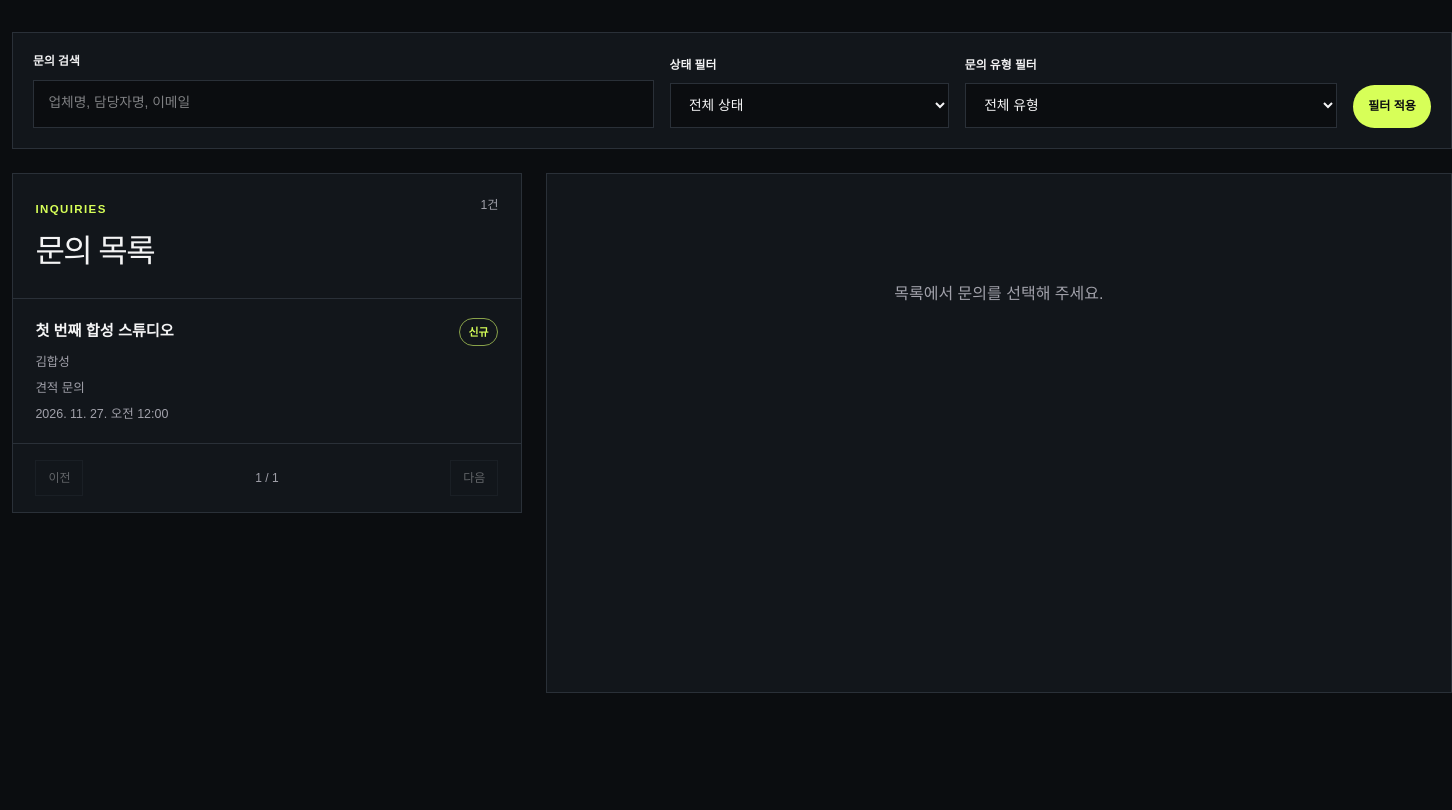
Test: 관리자 문의 관리 화면 › 검색·상태·유형 필터를 적용하고 첫 페이지 결과를 표시한다
Expected: the text "첫 번째 합성 스튜디오" is shown, [35,320,174,343]
Step 1. Type "검색" into the field labelled "문의 검색" → (343, 104), box [33,80,654,128]
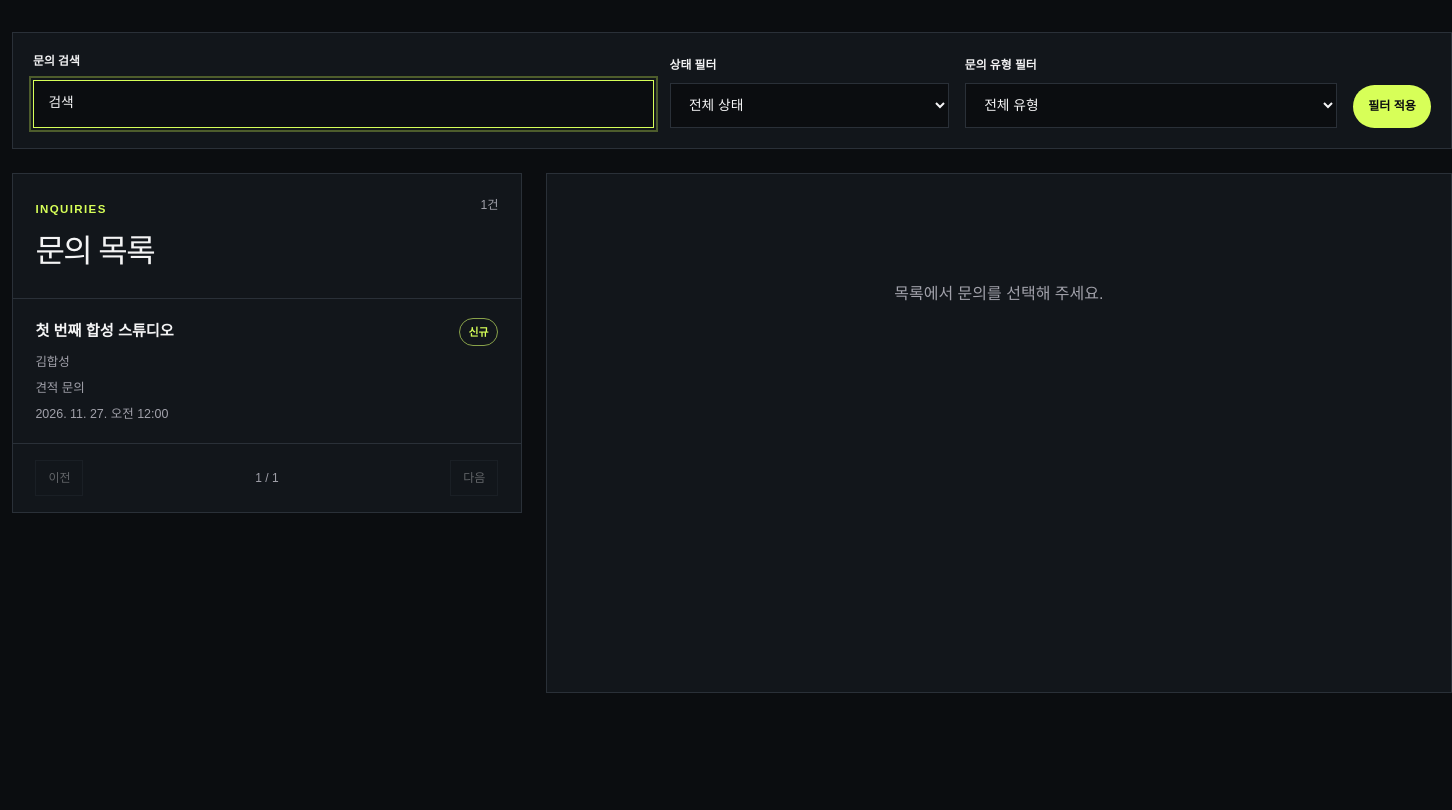
Step 2. Select "상담 예정" in the dropdown labelled "상태 필터" → (809, 106), box [670,83,949,128]
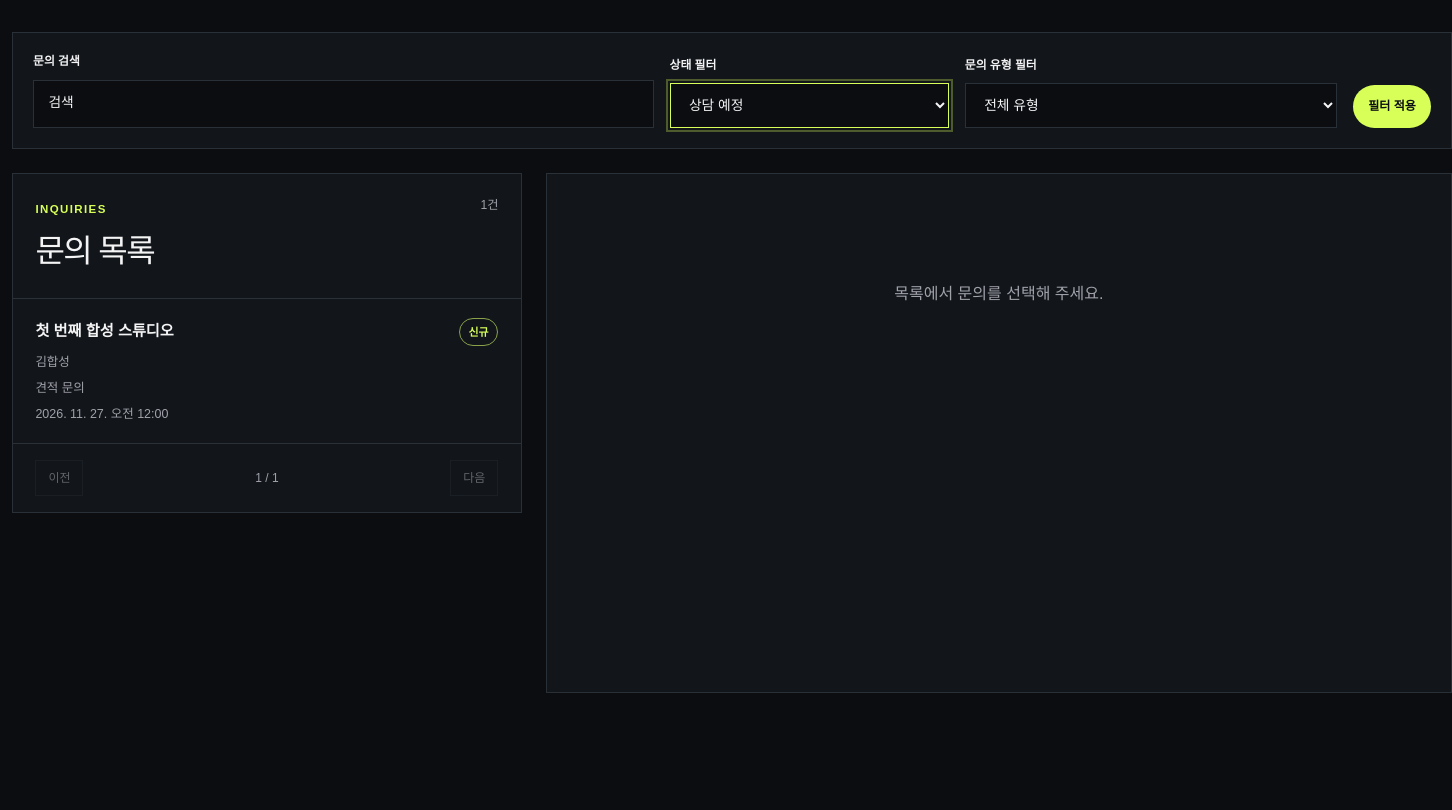
Step 3. Select "홈페이지 제작 상담" in the dropdown labelled "문의 유형 필터" → (1151, 106), box [965,83,1337,128]
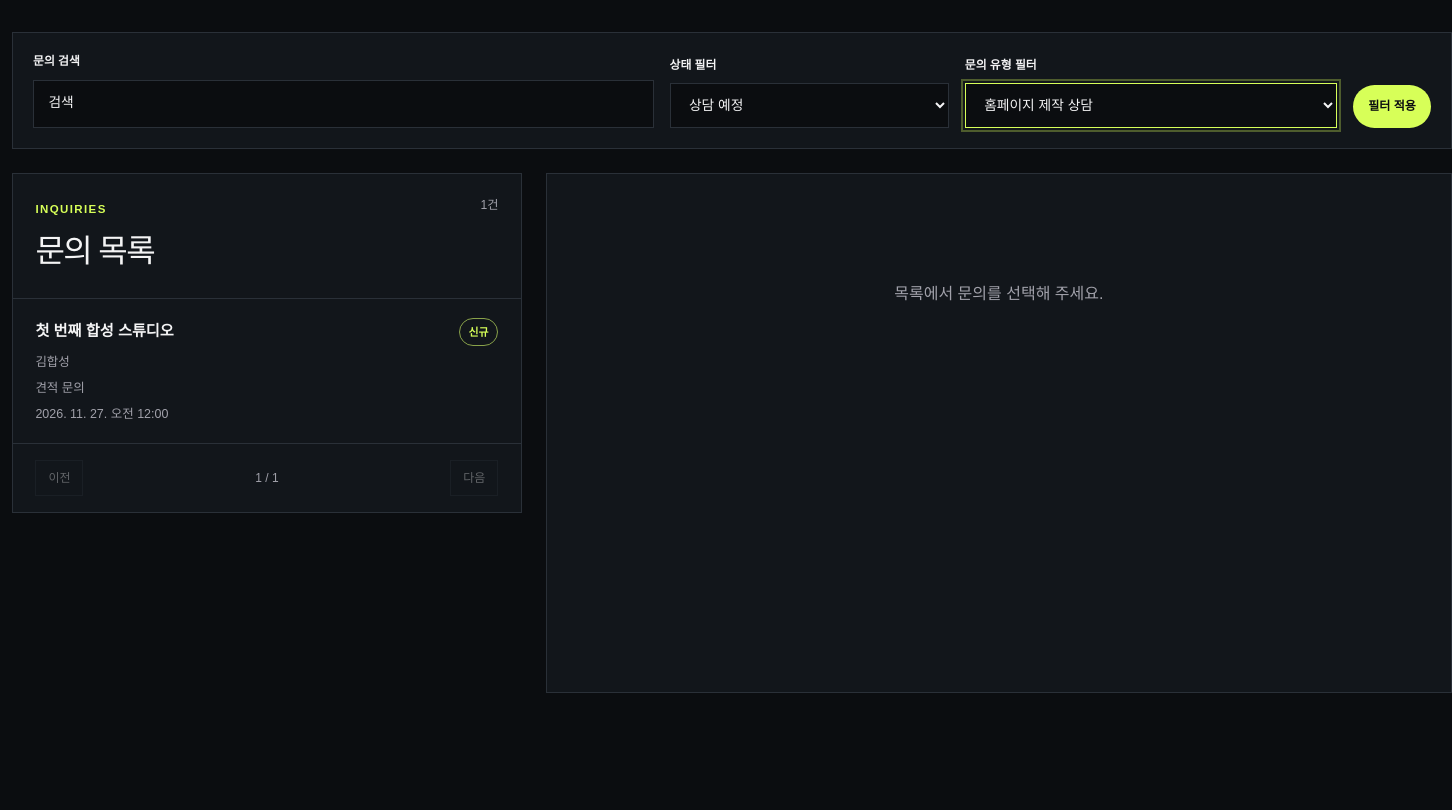
Step 4. Click the button "필터 적용" → click(1392, 106), box [1353,85,1431,128]
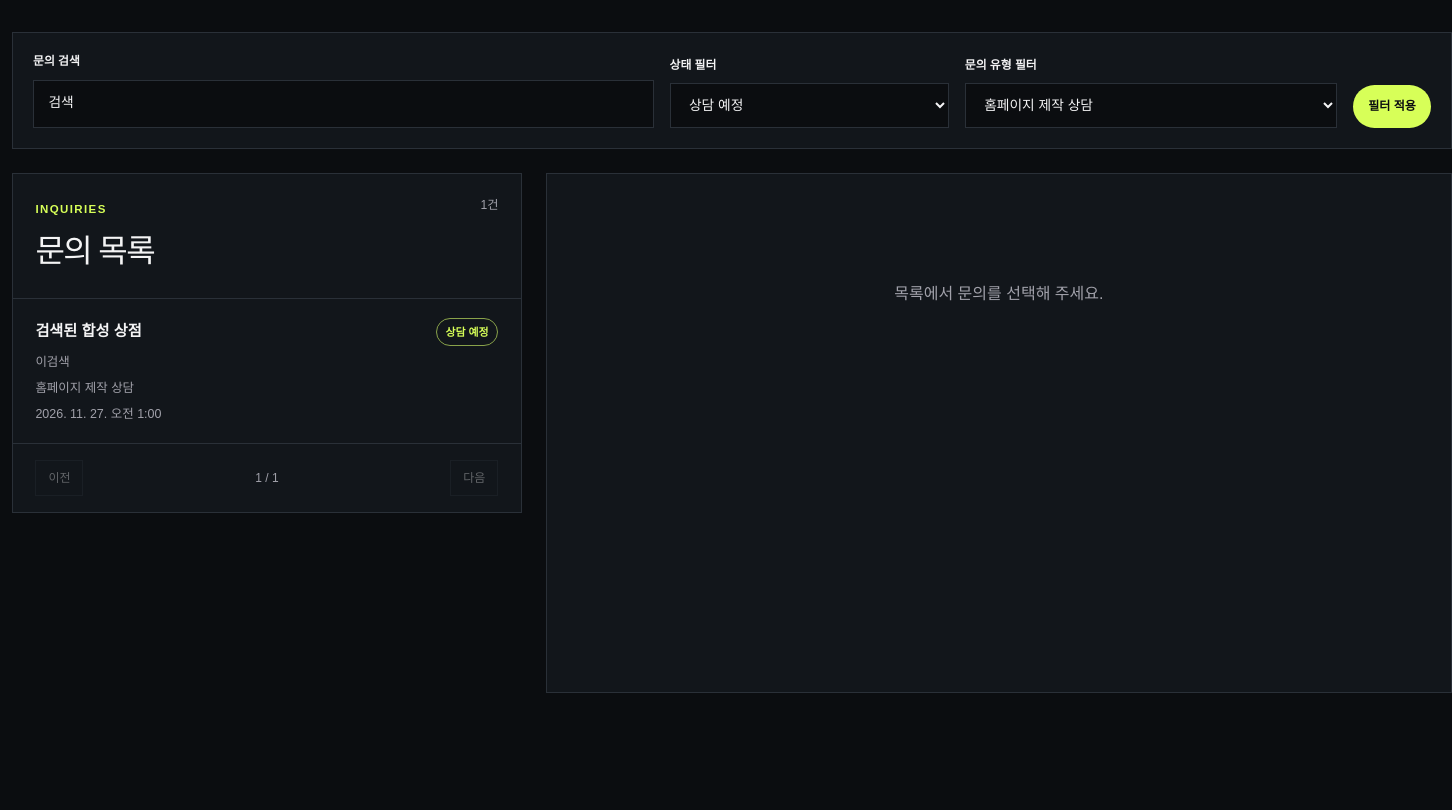
Expected: the text "검색된 합성 상점" is shown, [35,320,142,343]
Expected: the button "첫 번째 합성 스튜디오" is gone
